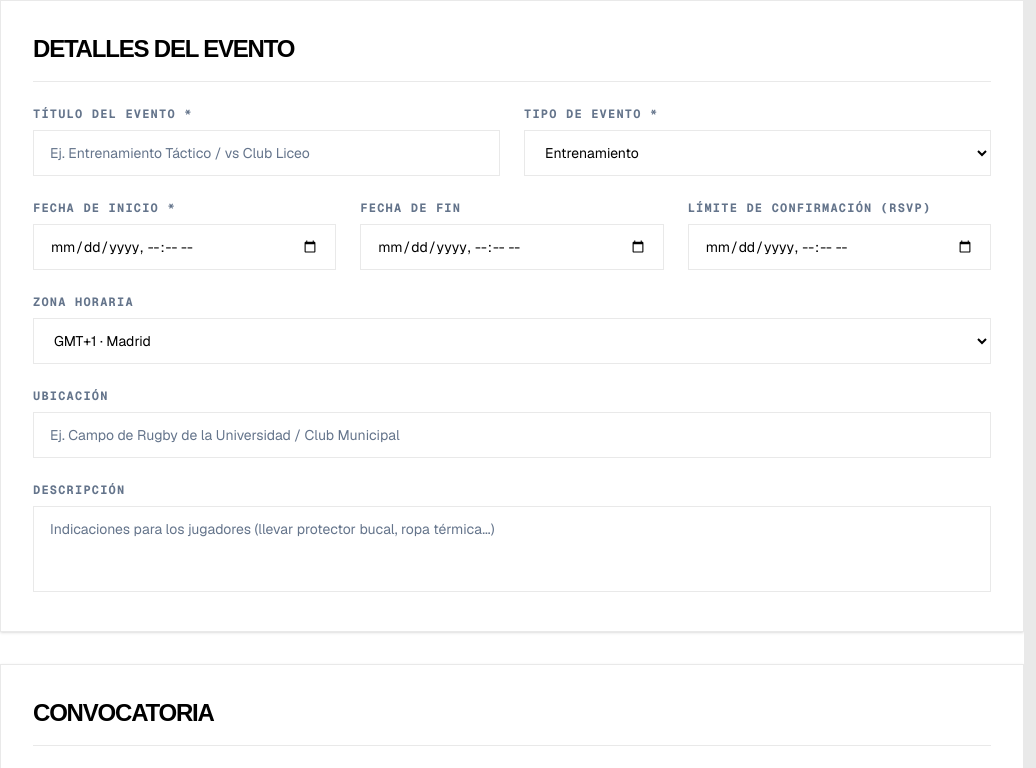
Test: EventForm — convocatoria según el tipo › MATCH muestra el editor de alineación
Select "Partido" in the dropdown showing "Entrenamiento" at coordinates (758, 153), box [524,130,991,176]
(page scrolled)
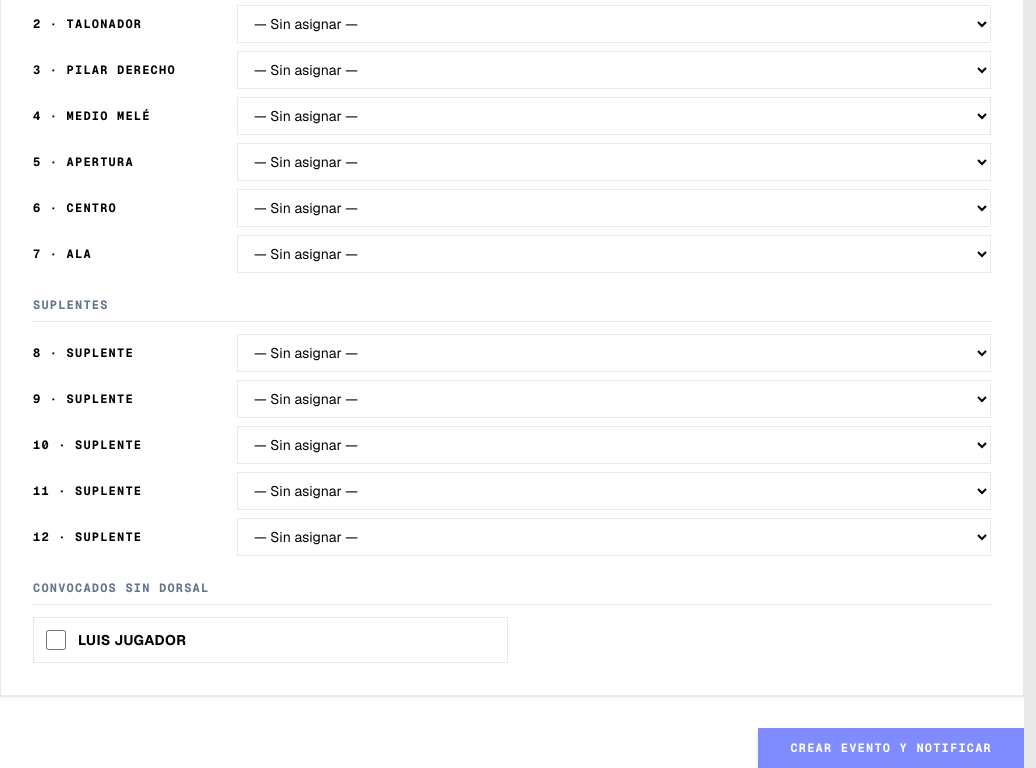
Check: the checkbox labelled "Luis Jugador" is shown, box [46,630,66,650]
